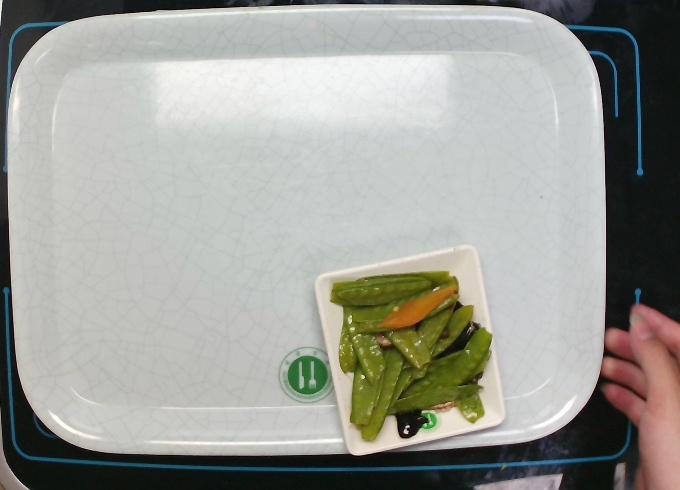WCQzf-Bai_Se_Si_Fang_Die: (305, 237, 511, 459)
